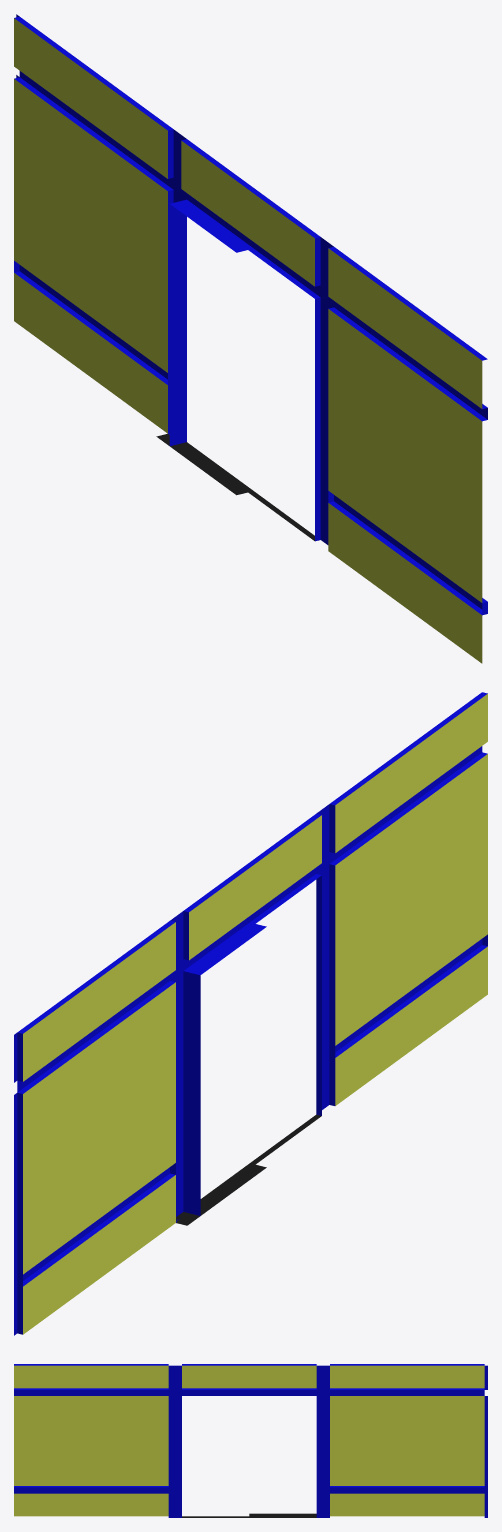
Rendered from MSH_A_Wall_West.glb.
3 views of the same model, one above another, from view 1: azimuth 30°, elevation 25°; view 2: azimuth 150°, elevation 25°; view 3: azimuth 270°, elevation 25° (orthographic). The views are drawn at different scales.
Visible parts, largest first — view 1: Wall Room A-West; view 2: Wall Room A-West; view 3: Wall Room A-West.
Boxes of the visible parts, box(x1,y1,x2,y2) form: Wall Room A-West: box(14, 14, 487, 663); Wall Room A-West: box(14, 692, 487, 1335); Wall Room A-West: box(14, 1364, 487, 1517).
Bounding box in the file's own units: 0.15 × 2.5 × 7.05.
